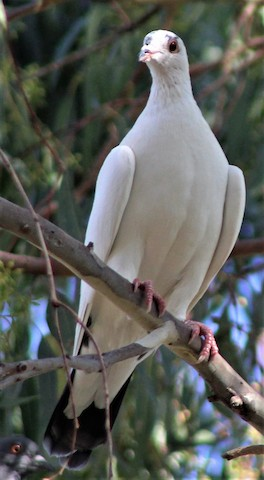pigeon: (27, 26, 252, 470)
